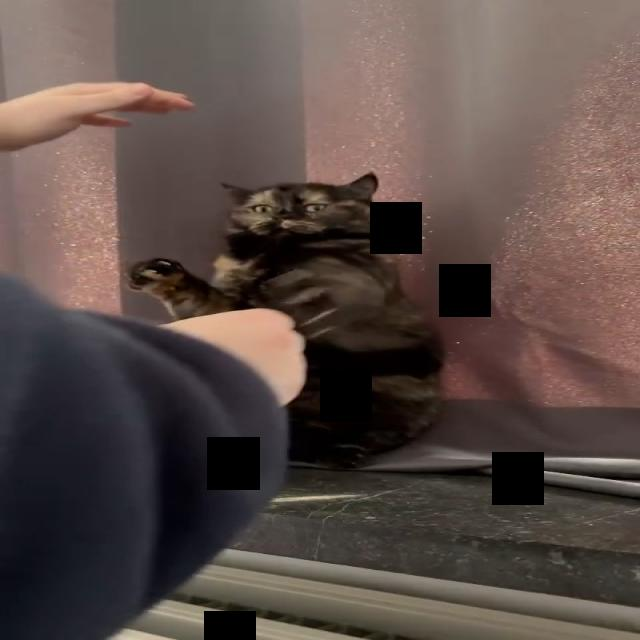authorized: (126, 170, 446, 470)
